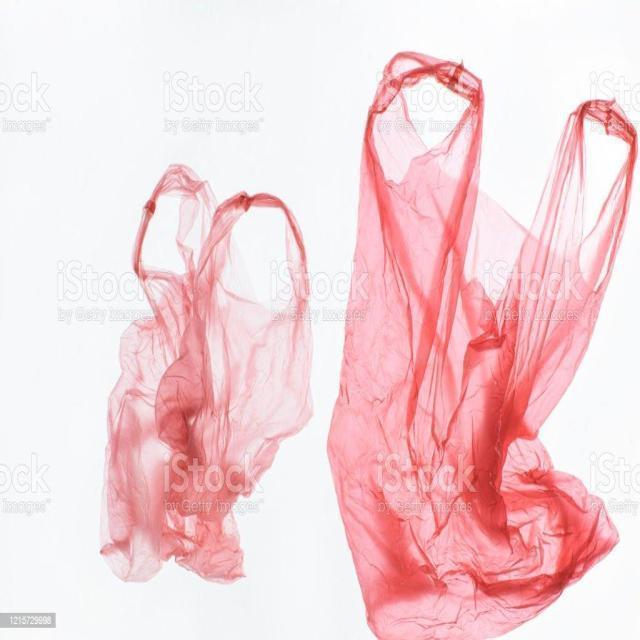Plastic_Bag: (104, 160, 309, 588)
